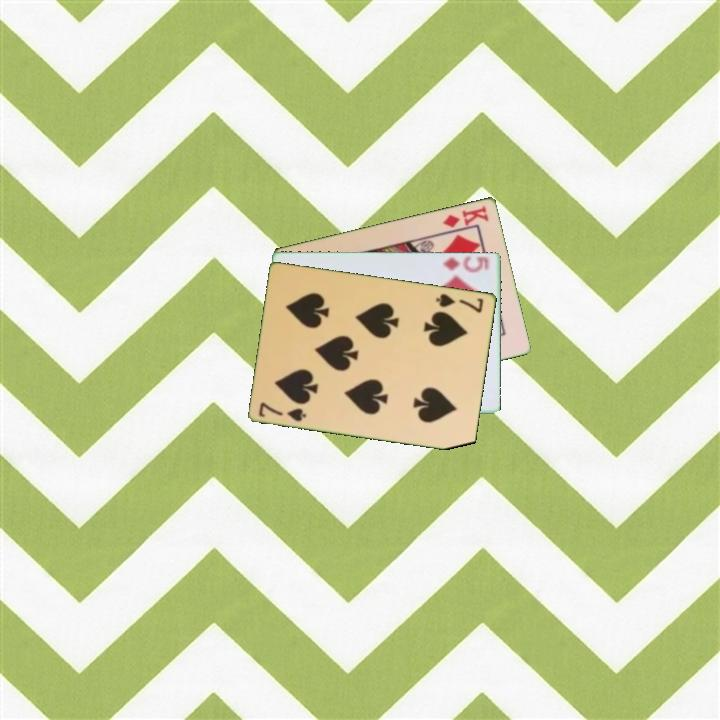5d: (440, 253, 491, 275)
7s: (433, 289, 486, 315), (256, 398, 309, 424)
Kd: (440, 202, 492, 230)
